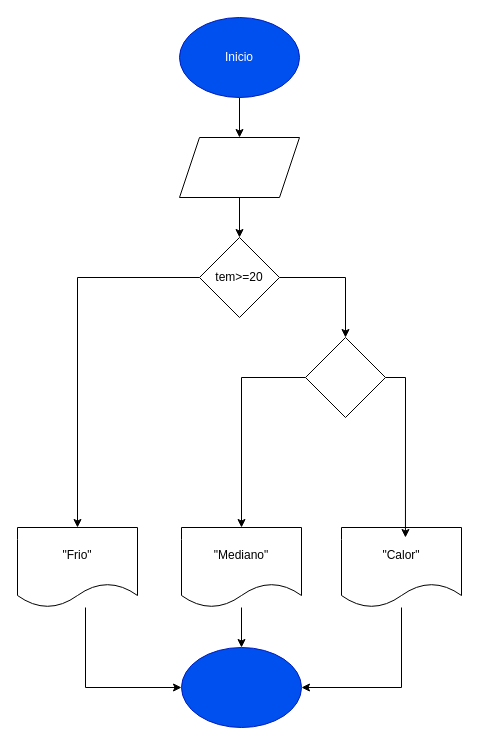
The diagram is 479 pixels wide and 745 high, and some of its shapes have lost their labels. Here are the shapes that lost their labels. From the top down, the centre of each, then its label:
At point 239,167: "tem".
At point 345,377: "tem>=25".
At point 241,687: "Fim".
